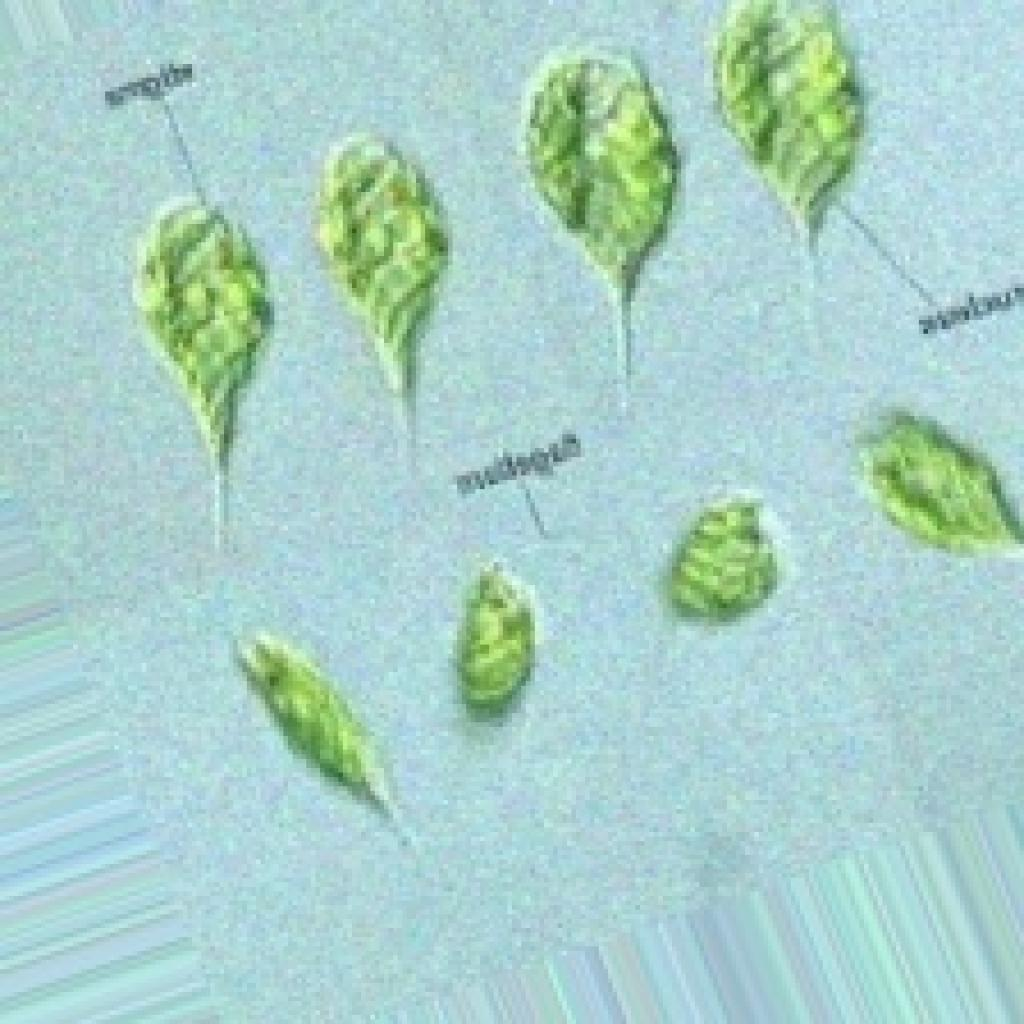Microalgae: (78, 65, 1024, 832)
